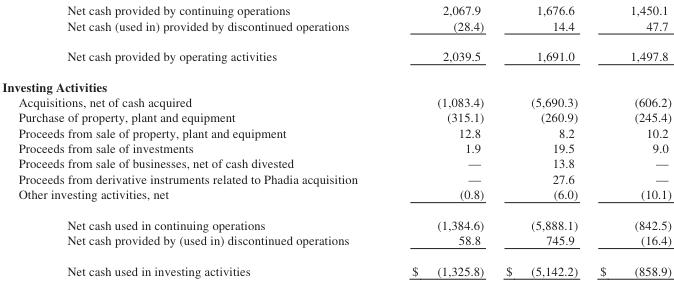table: (1, 0, 670, 278)
table column: (1, 0, 384, 278), (384, 0, 494, 278), (494, 0, 588, 278), (588, 0, 670, 278)
table column header: (1, 0, 670, 16)
table projected row header: (1, 70, 670, 93)
table row: (1, 39, 670, 70), (1, 254, 670, 278), (1, 16, 670, 39), (1, 70, 670, 93), (1, 185, 670, 208), (1, 208, 670, 231), (1, 231, 670, 254), (1, 0, 670, 16), (1, 108, 670, 124), (1, 154, 670, 170), (1, 93, 670, 108), (1, 124, 670, 139), (1, 139, 670, 154), (1, 170, 670, 185)
